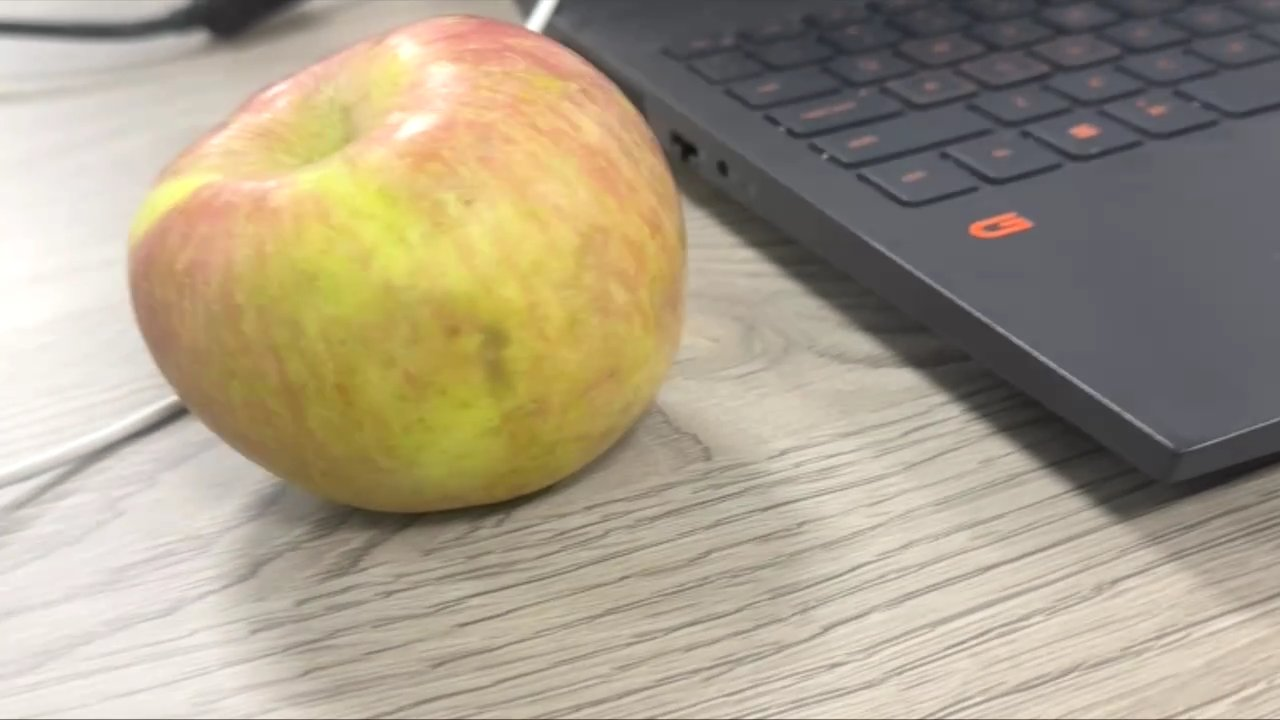apple_rotten: (116, 12, 701, 522)
